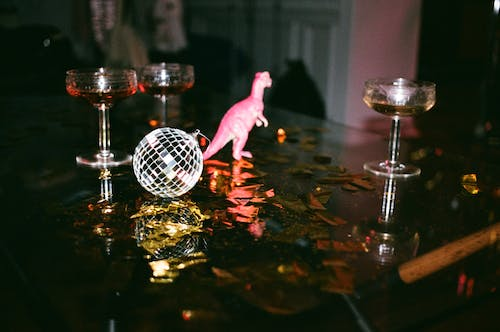alcohol: (361, 76, 438, 179), (64, 66, 139, 168), (139, 61, 198, 127)
